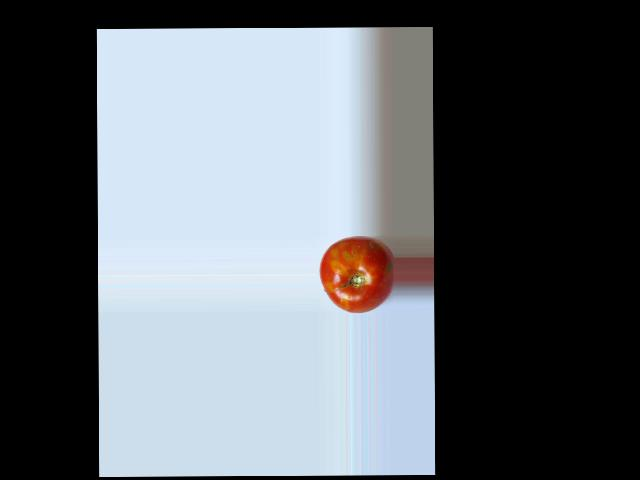tomato: (319, 236, 394, 313)
